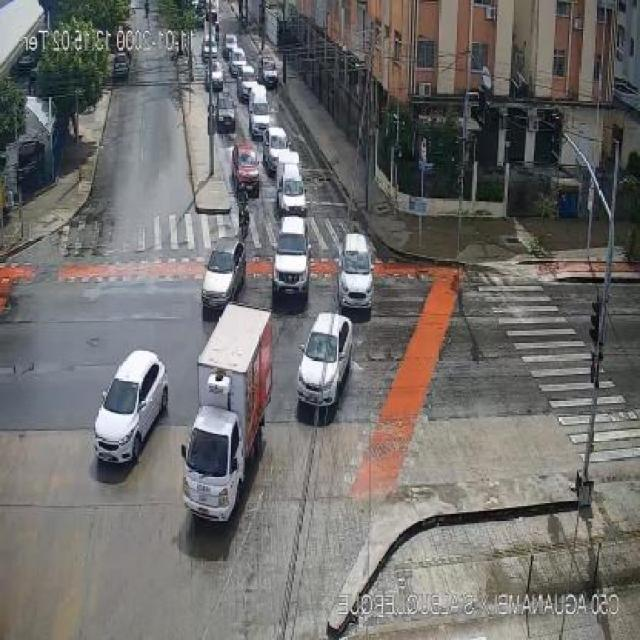Car: (93, 346, 171, 468), (294, 312, 353, 411), (272, 219, 314, 303), (335, 232, 375, 314), (198, 240, 244, 305), (260, 125, 291, 172), (215, 90, 238, 133), (235, 65, 258, 100), (259, 56, 278, 86), (205, 61, 223, 90), (230, 46, 250, 72), (113, 52, 131, 79), (200, 34, 218, 59), (224, 34, 237, 56)
Cycle: (235, 199, 253, 238)
Truck: (173, 300, 280, 524)
Van: (233, 142, 261, 196)
